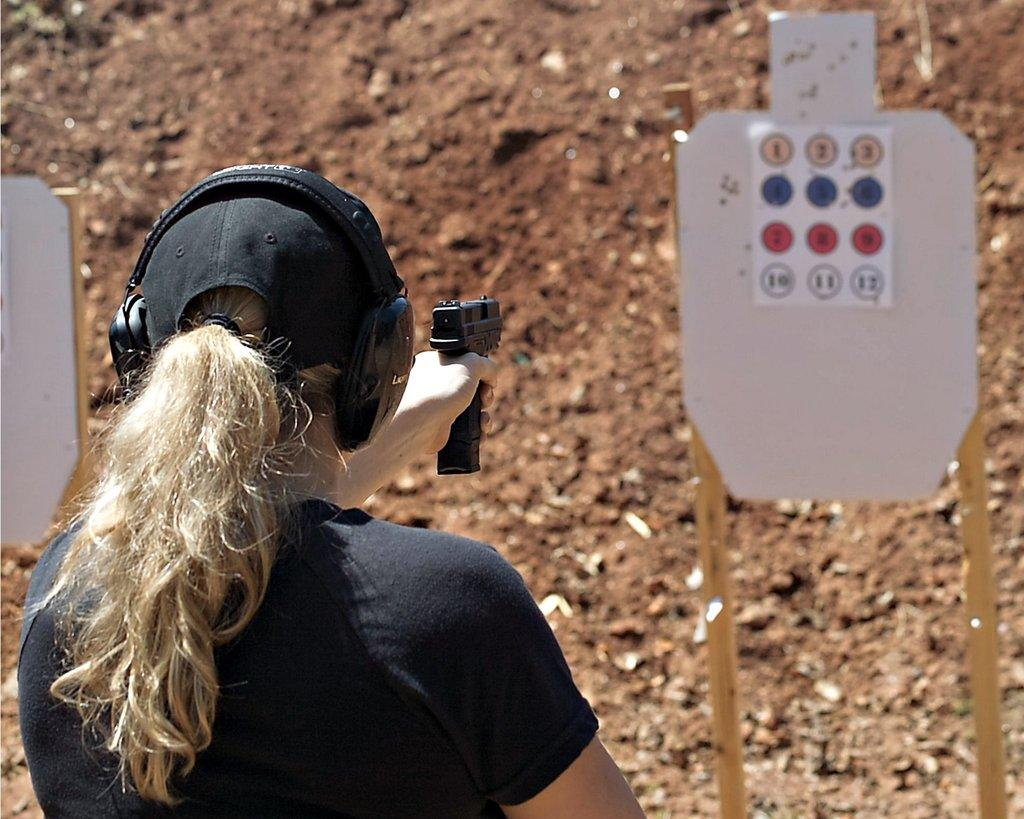non-violence: (9, 158, 644, 818)
weapon: (429, 294, 501, 471)
